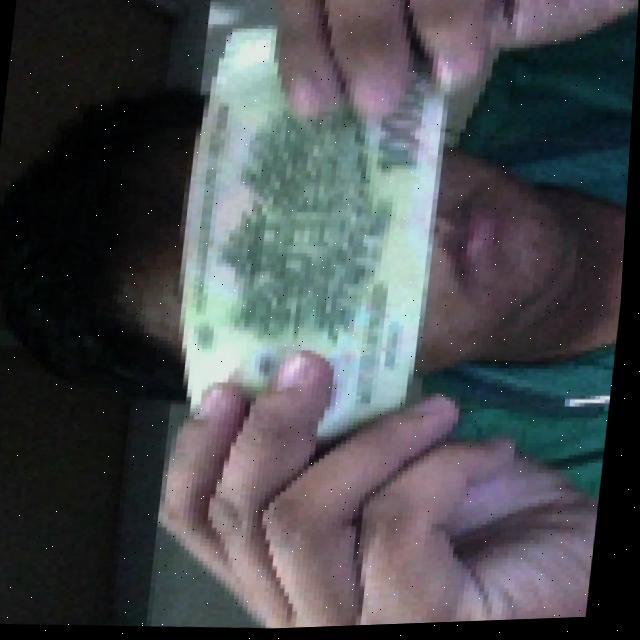100 000 VND: (155, 13, 468, 467)
